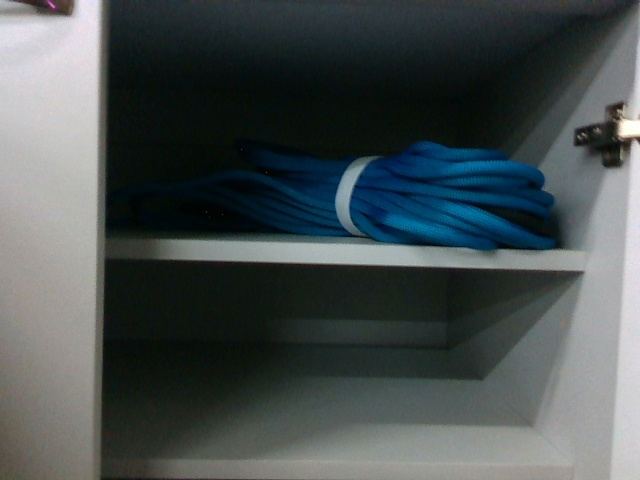rope: (268, 147, 557, 249)
